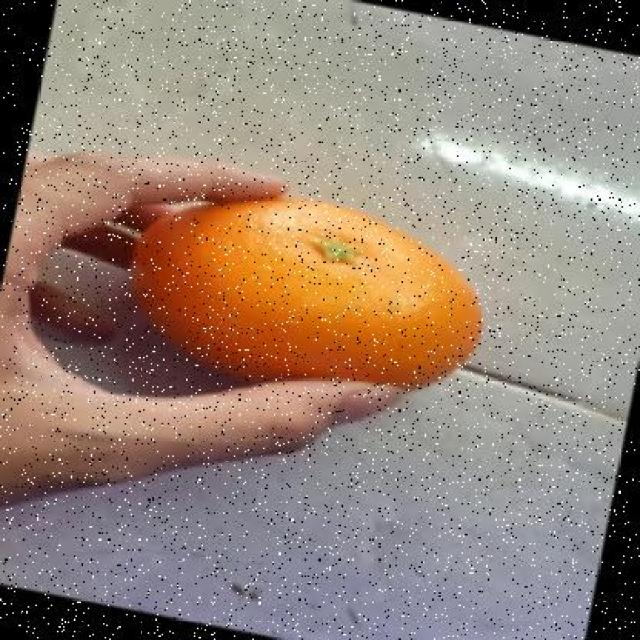Orange: (128, 192, 483, 391)
